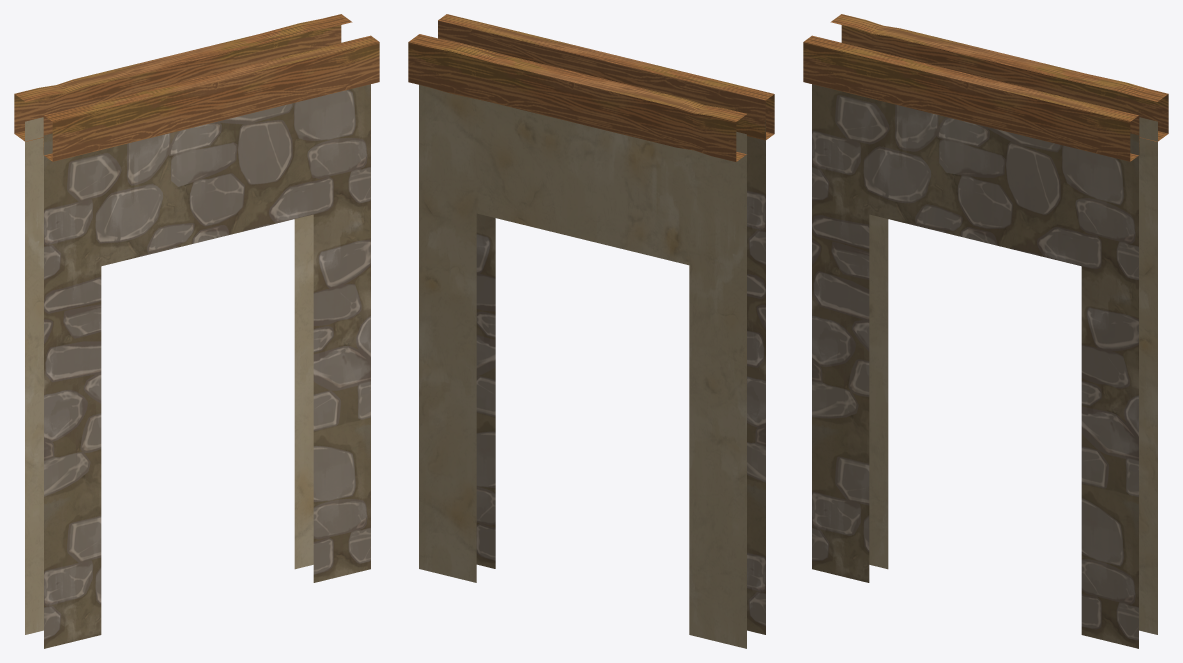
File: Wall_UnevenBrick_Door_Flat.gltf
The picture shows the model from 3 angles, left to right: view 1: azimuth 30°, elevation 25°; view 2: azimuth 150°, elevation 25°; view 3: azimuth 330°, elevation 25°; orthographic projection.
Parts seen in each view (by area): view 1: Wall_UnevenBrick_Door_Flat; view 2: Wall_UnevenBrick_Door_Flat; view 3: Wall_UnevenBrick_Door_Flat.
Boxes of the visible parts, x1,y1,x2,y2 form: Wall_UnevenBrick_Door_Flat: (14, 14, 379, 648); Wall_UnevenBrick_Door_Flat: (408, 14, 774, 648); Wall_UnevenBrick_Door_Flat: (803, 14, 1168, 648).
Bounding box in the file's own units: 2 × 3.12 × 0.4065.
Materials: 3 (3 with a texture image).
